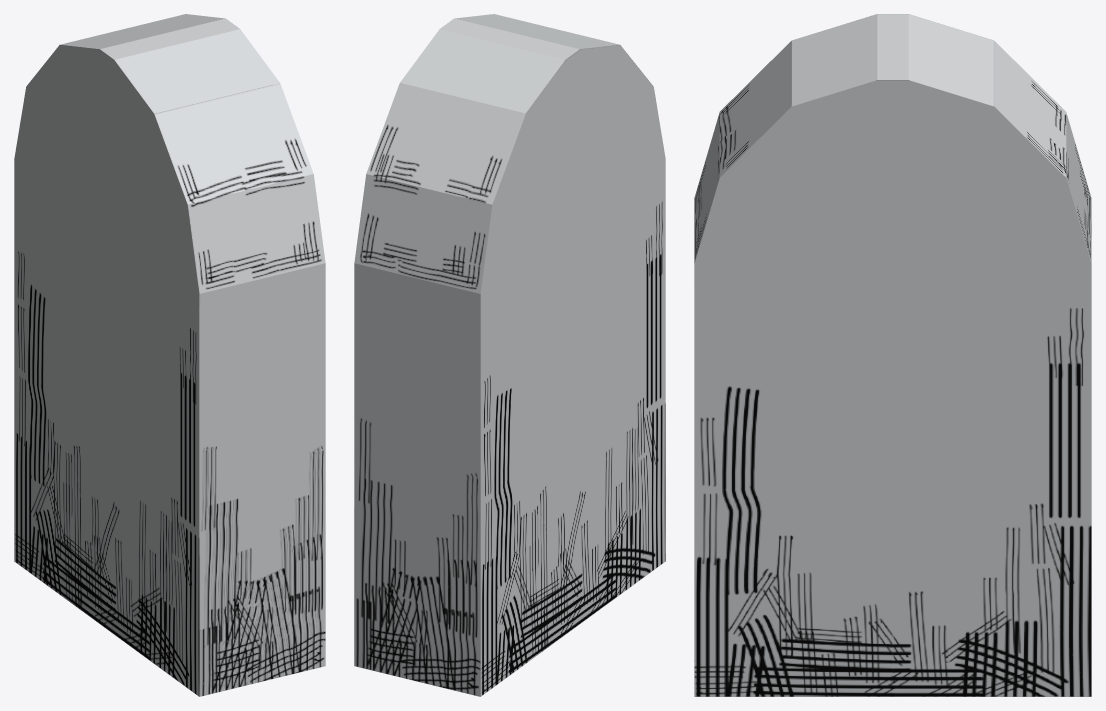
3 renders of one model, left to right at view 1: azimuth 30°, elevation 25°; view 2: azimuth 150°, elevation 25°; view 3: azimuth 270°, elevation 25°, orthographic. The views are drawn at different scales.
Visible parts, largest first — view 1: 立方体.002; view 2: 立方体.002; view 3: 立方体.002.
Boxes of the visible parts, x1=… form: 立方体.002: x1=14, y1=14, x2=325, y2=696; 立方体.002: x1=354, y1=14, x2=665, y2=696; 立方体.002: x1=694, y1=14, x2=1091, y2=696.
Bounding box in the file's own units: 111 × 485 × 283.
1 material, 1 textured.
